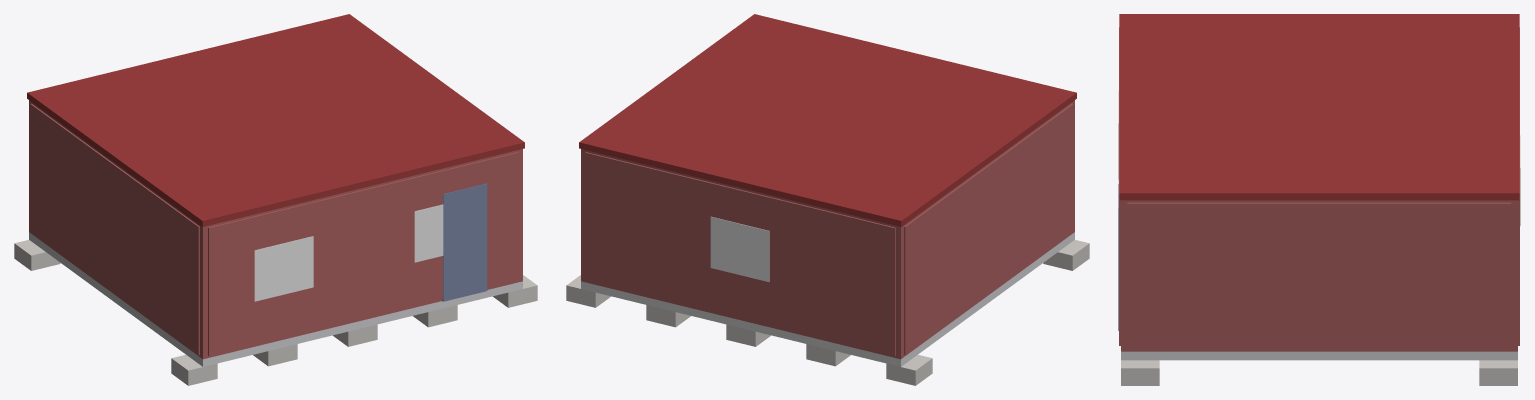
The model's file is Studio-20-Base-MaroonRed-LOD2.glb.
3 views of the same model, side by side, from view 1: azimuth 30°, elevation 25°; view 2: azimuth 150°, elevation 25°; view 3: azimuth 270°, elevation 25° (orthographic). The views are drawn at different scales.
Parts seen in each view (by area): view 1: RoofMain, ExteriorPanelsStandard, EntryDoor, WindowsStandard, FoundationBlocks, ExteriorShell, BaseFrame; view 2: ExteriorPanelsStandard, RoofMain, FoundationBlocks, BaseFrame, ExteriorShell, WindowsStandard; view 3: RoofMain, ExteriorPanelsStandard, ExteriorShell, BaseFrame, FoundationBlocks.
Part boxes in pixels (left/top/right/bottom): RoofMain: left=27, top=14, right=524, bottom=226; ExteriorPanelsStandard: left=30, top=103, right=518, bottom=355; EntryDoor: left=442, top=183, right=487, bottom=301; WindowsStandard: left=254, top=204, right=443, bottom=301; FoundationBlocks: left=14, top=240, right=537, bottom=385; ExteriorShell: left=29, top=100, right=522, bottom=359; BaseFrame: left=29, top=232, right=522, bottom=366; ExteriorPanelsStandard: left=585, top=103, right=1073, bottom=355; RoofMain: left=579, top=14, right=1076, bottom=226; FoundationBlocks: left=566, top=240, right=1089, bottom=385; BaseFrame: left=581, top=232, right=1074, bottom=366; ExteriorShell: left=581, top=100, right=1074, bottom=359; WindowsStandard: left=710, top=216, right=769, bottom=281; RoofMain: left=1119, top=14, right=1519, bottom=200; ExteriorPanelsStandard: left=1119, top=27, right=1519, bottom=349; ExteriorShell: left=1121, top=200, right=1517, bottom=351; BaseFrame: left=1121, top=351, right=1517, bottom=360; FoundationBlocks: left=1121, top=360, right=1517, bottom=385.
Size of the model in its own units: 7.14 by 3.17 by 6.24.
